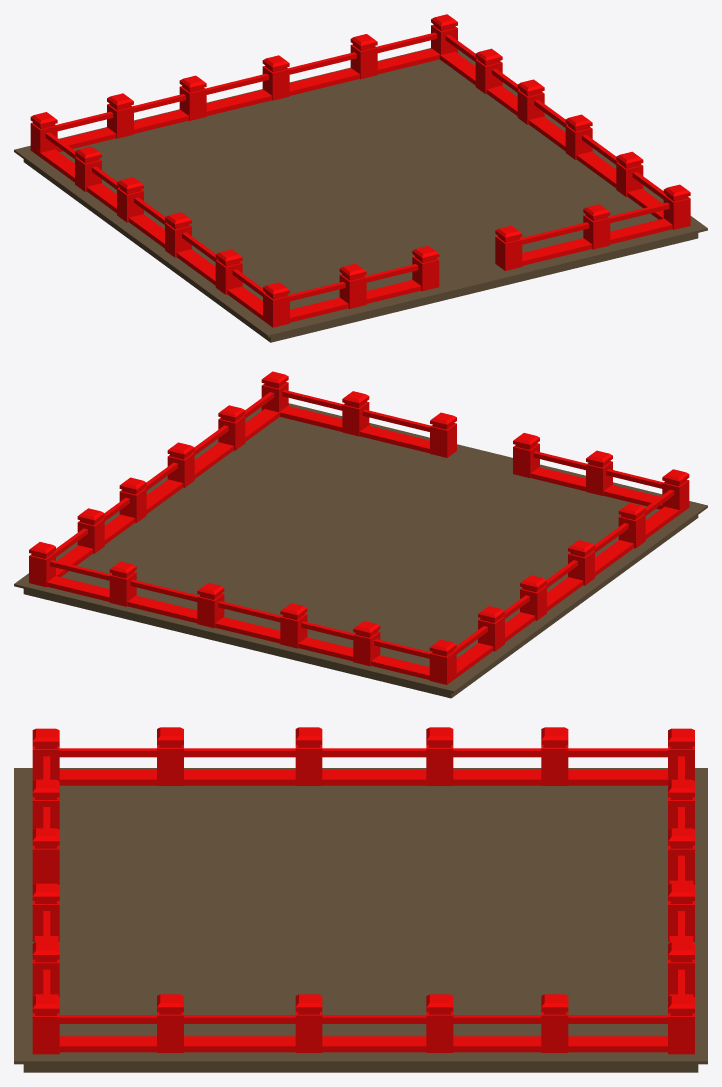
File: HouseCrurt.FBX
3 renders of one model, top to bottom at view 1: azimuth 30°, elevation 25°; view 2: azimuth 150°, elevation 25°; view 3: azimuth 270°, elevation 25°, orthographic. The views are drawn at different scales.
Parts seen in each view (by area): view 1: HouseCourt; view 2: HouseCourt; view 3: HouseCourt.
Part boxes in pixels (x1,y1,x2,y2): HouseCourt: (14,14,707,342); HouseCourt: (14,371,707,698); HouseCourt: (14,727,707,1072).
Size of the model in its own units: 10.28 by 1.04 by 10.28.
